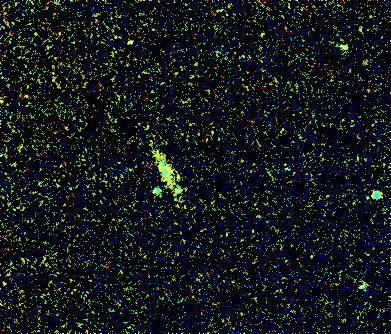star: (113, 28, 143, 58)
